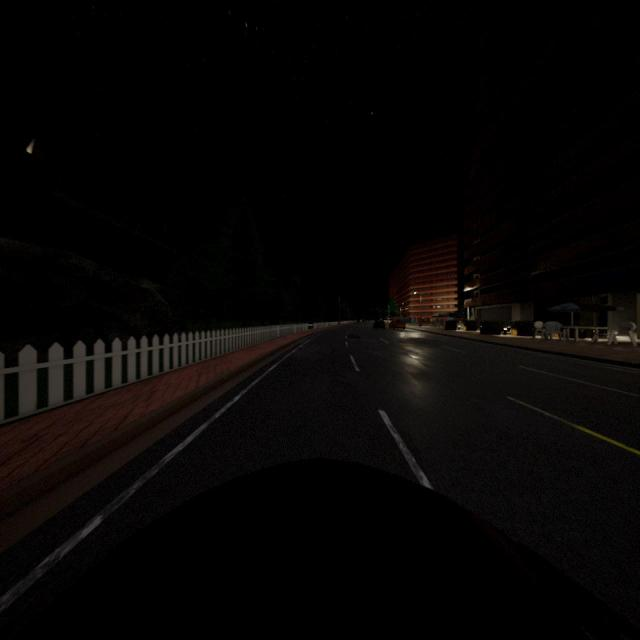Vehicle: (0, 453, 640, 640), (388, 318, 406, 330), (372, 318, 386, 330)
